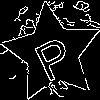P: (27, 28, 77, 83)
